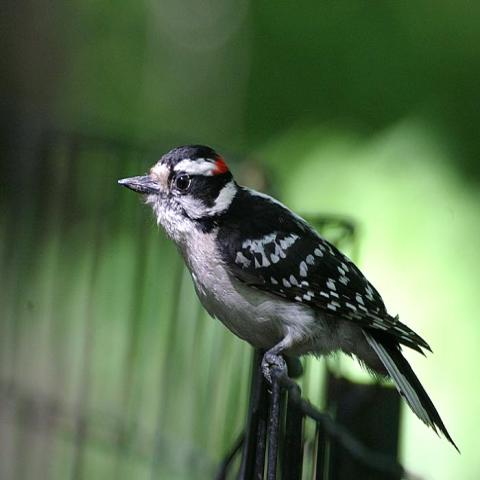bird: (116, 139, 461, 458)
